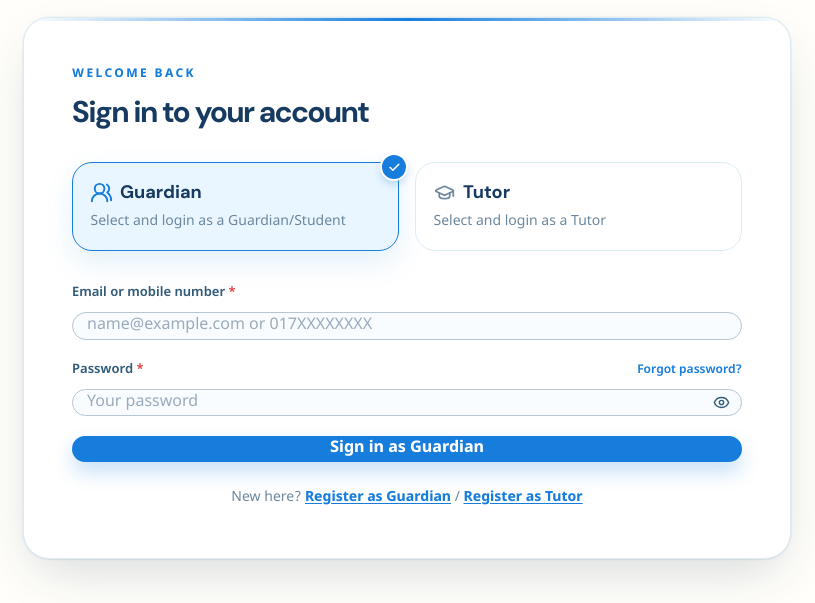
it: Public Guardian and Tutor account access › keeps the chosen role on the sign-in button
Step 1. Click the radio button with aria-label "Select Tutor account" → (486, 192), box [415,162,742,251]
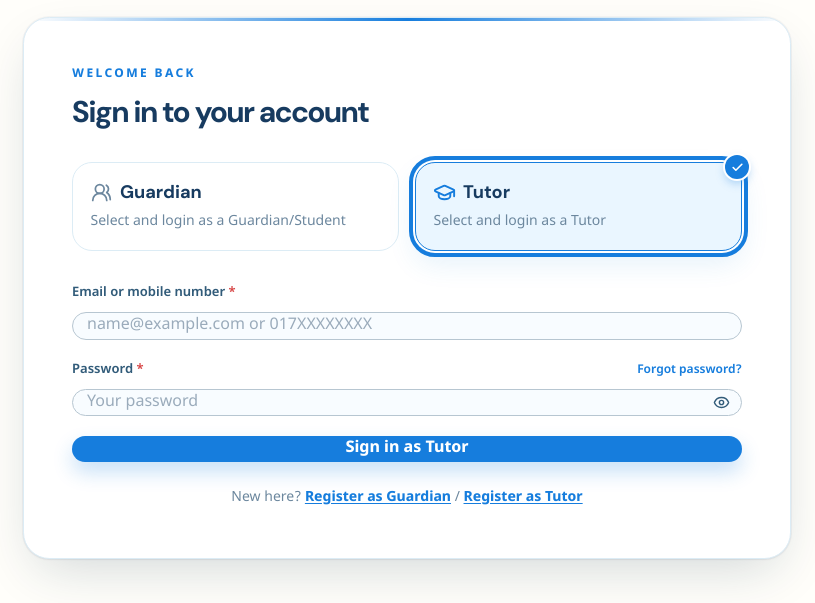
Result: the button "Sign in as Tutor" is shown at [72,436,742,462]
